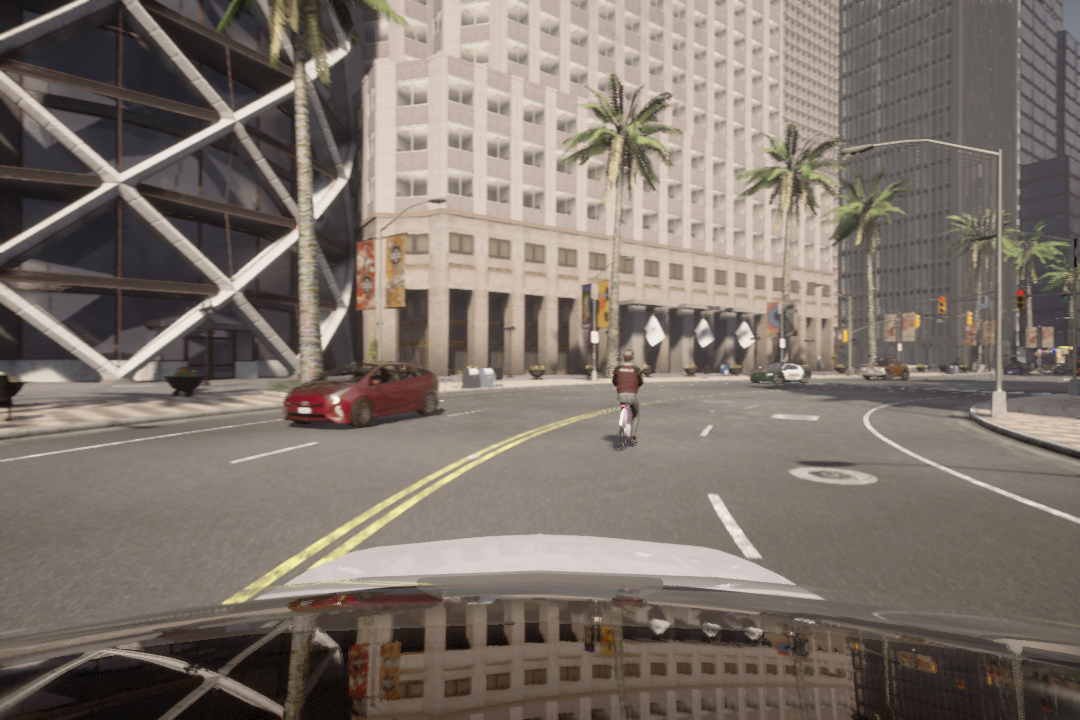TrafficLight: (1014, 291, 1027, 312), (937, 297, 947, 317)
